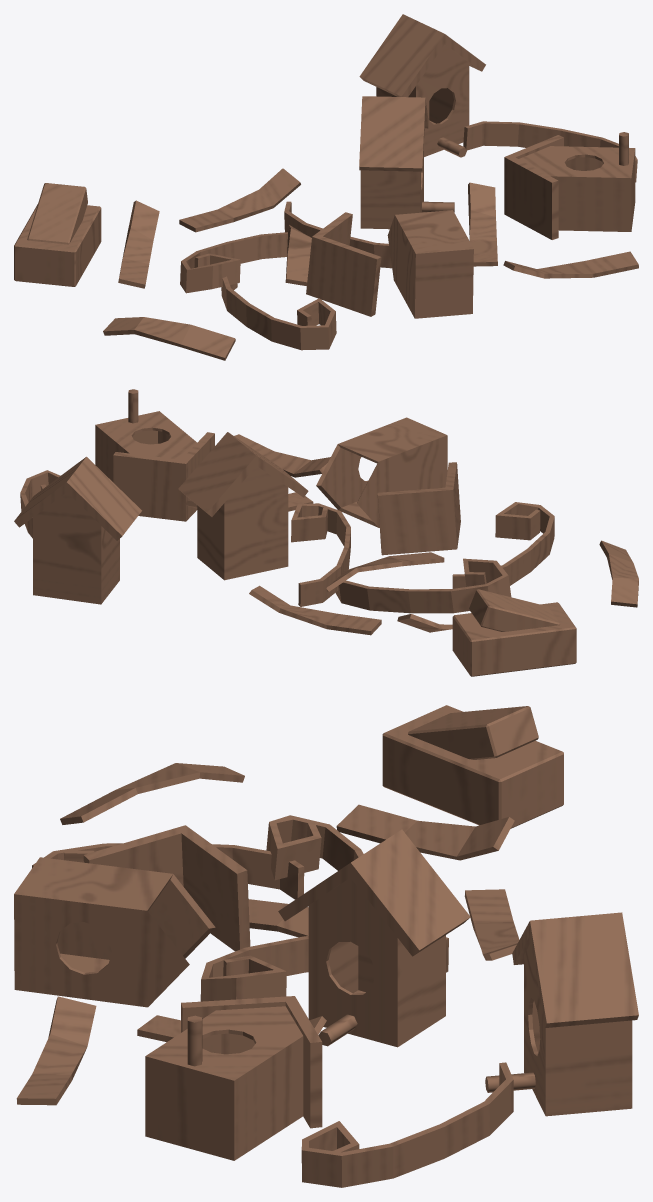
Rendered from Workshop_objects.fbx.
3 renders of one model, top to bottom at view 1: azimuth 30°, elevation 25°; view 2: azimuth 150°, elevation 25°; view 3: azimuth 270°, elevation 25°, orthographic. The views are drawn at different scales.
Parts seen in each view (by area): view 1: Workshop_objects; view 2: Workshop_objects; view 3: Workshop_objects.
Boxes of the visible parts, bbox=[...] form: Workshop_objects: bbox=[14, 14, 638, 360]; Workshop_objects: bbox=[14, 389, 638, 676]; Workshop_objects: bbox=[14, 705, 638, 1187].
Size of the model in its own units: 28.95 by 6.38 by 18.12.
